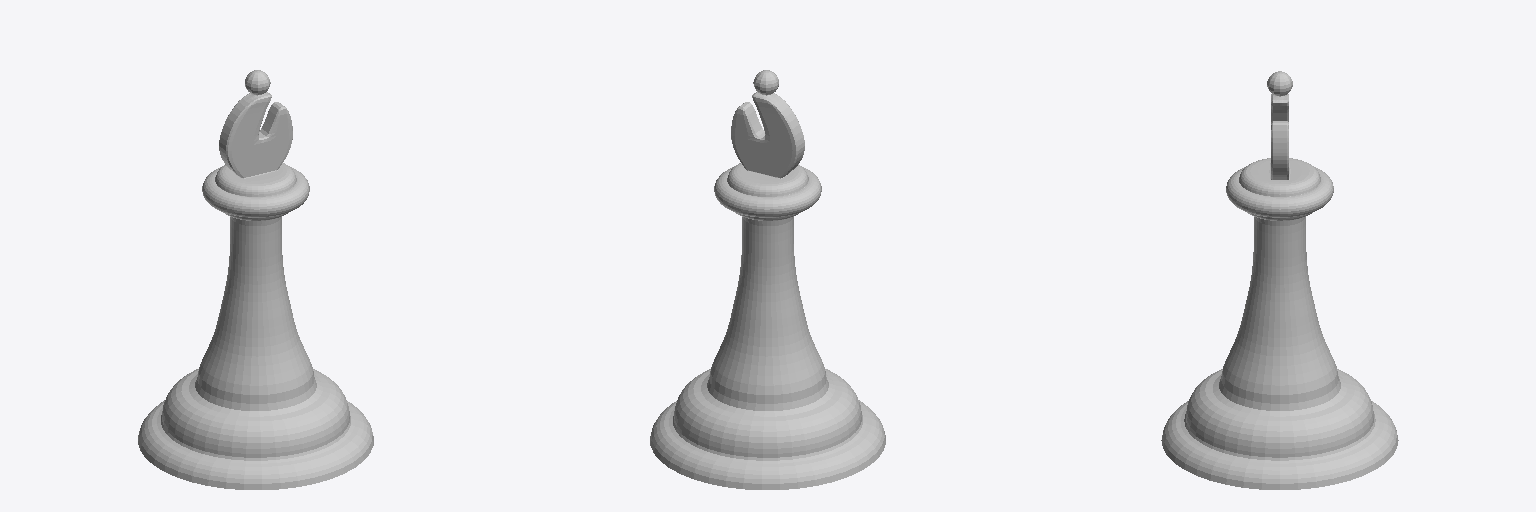
Rendered from finaldiagonalfar.obj.
3 views of the same model, side by side, from view 1: azimuth 30°, elevation 25°; view 2: azimuth 150°, elevation 25°; view 3: azimuth 270°, elevation 25° (orthographic).
Parts seen in each view (by area): view 1: black_bishop2_Mesh.002; view 2: black_bishop2_Mesh.002; view 3: black_bishop2_Mesh.002.
Boxes of the visible parts, x1=… form: black_bishop2_Mesh.002: x1=138, y1=70, x2=373, y2=489; black_bishop2_Mesh.002: x1=650, y1=70, x2=885, y2=489; black_bishop2_Mesh.002: x1=1161, y1=71, x2=1398, y2=489.
Bounding box in the file's own units: 0.4965 × 0.8558 × 0.4984.